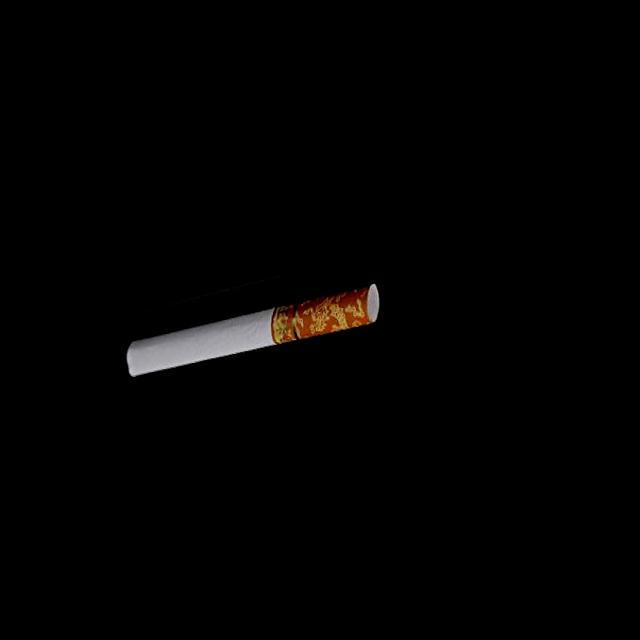smoke: (118, 245, 384, 430)
